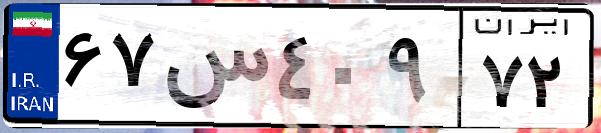0: (330, 28, 385, 110)
2: (525, 38, 570, 115)
4: (270, 28, 330, 110)
6: (57, 26, 110, 100)
7: (475, 38, 525, 113), (110, 28, 158, 98)
9: (385, 28, 445, 110)
س: (158, 20, 270, 120)
